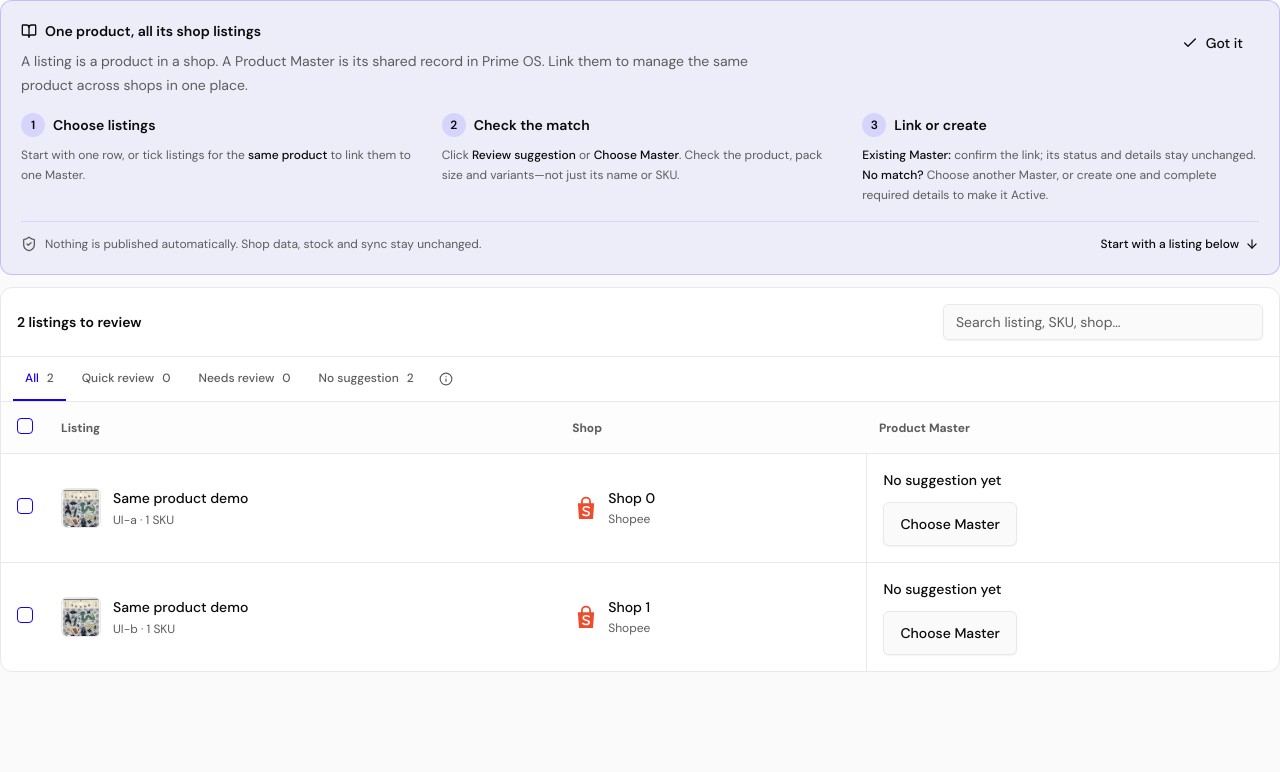
Test: Listing review drawer › returns from choosing a Master without saving and retains both selected rows
Click the checkbox named "Select visible shop listings" at (25, 426), box [17,418,33,434]
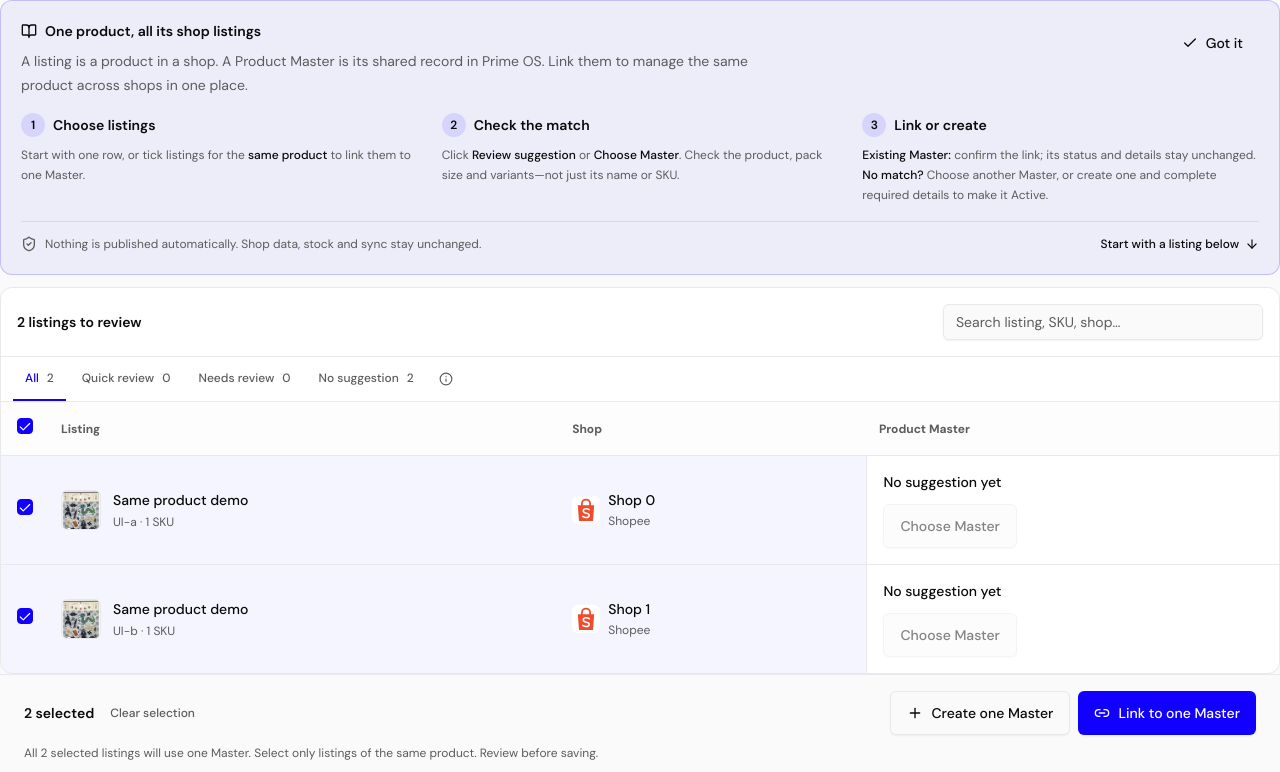
Click the button "Link to one Master" at (1167, 713), box [1078,691,1256,735]
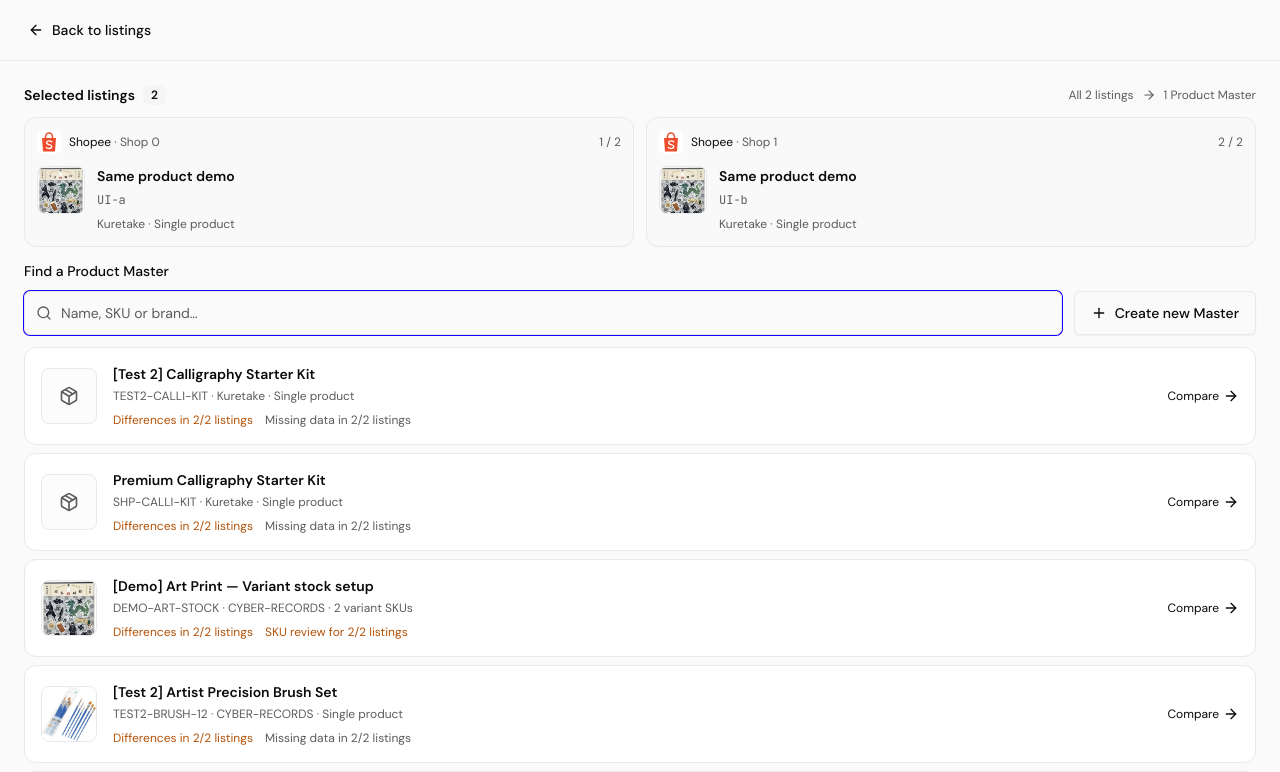
Expected: the element "Selected listings 2" is shown, [24,85,1256,247]
Click the button "Back to listings" at (90, 30), box [12,8,167,52]
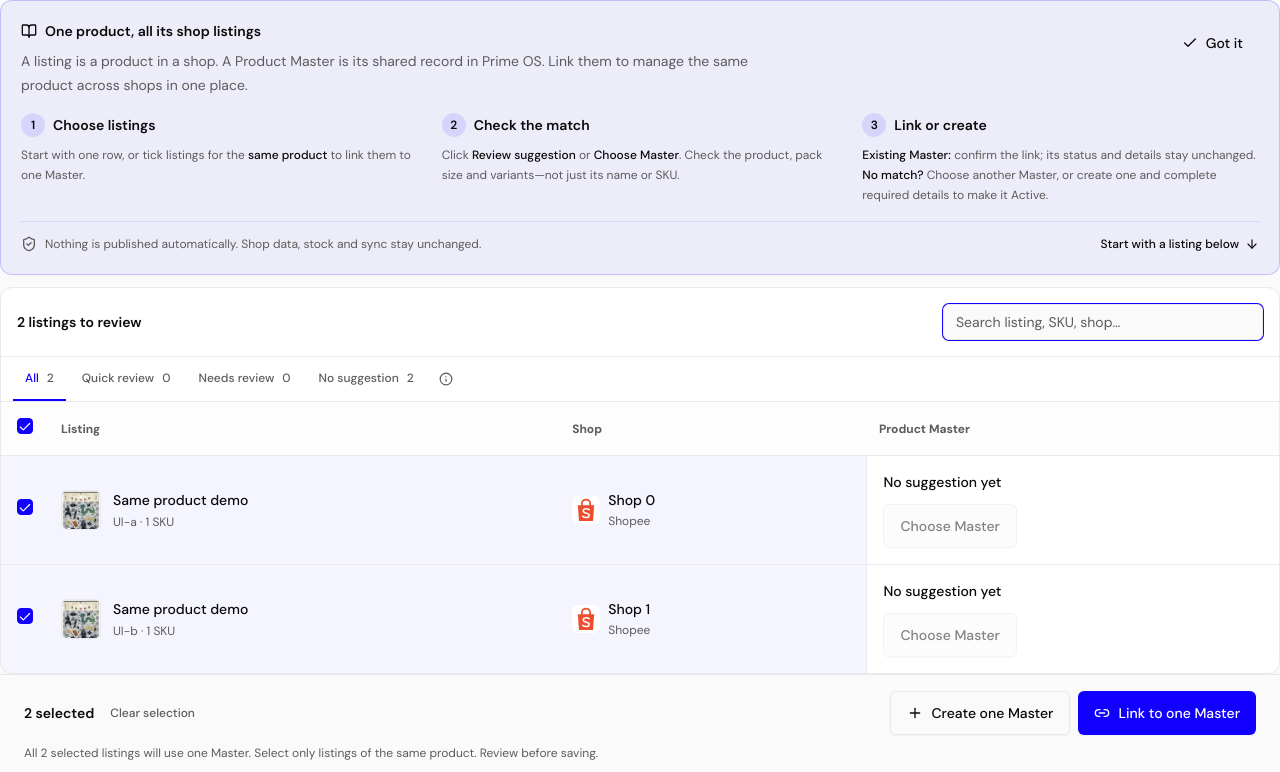
Expected: the text "2 selected" is shown, [24,703,94,723]
